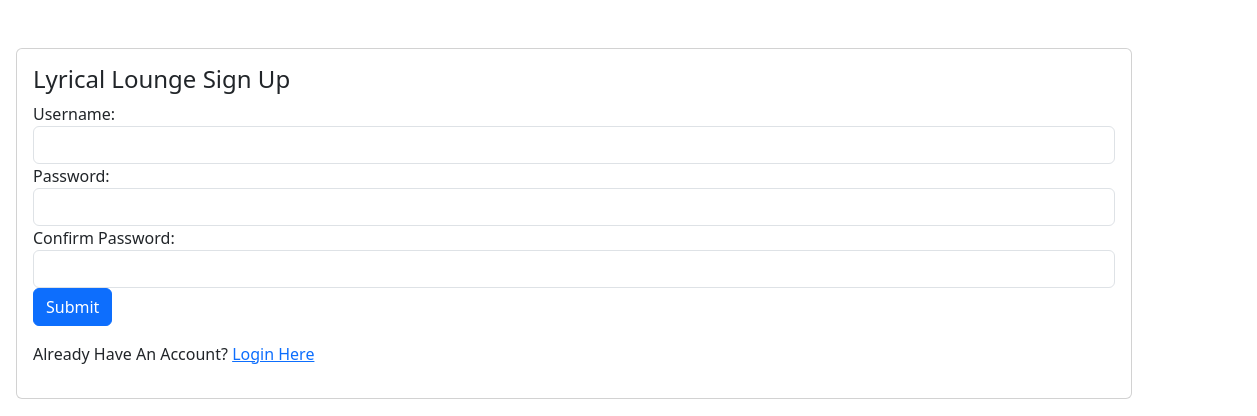
Test: Registration Page Rendering › Displays error message for mismatched passwords
In the field labelled "Username:": (574, 145) [33,126,1115,164], type "testUser"
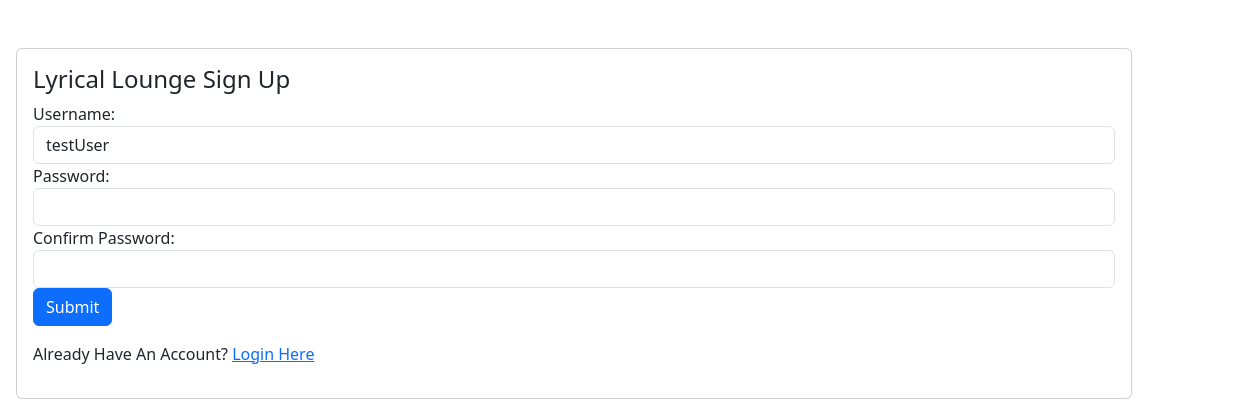
In the password field labelled "Password:": (574, 207) [33,188,1115,226], type "password1"
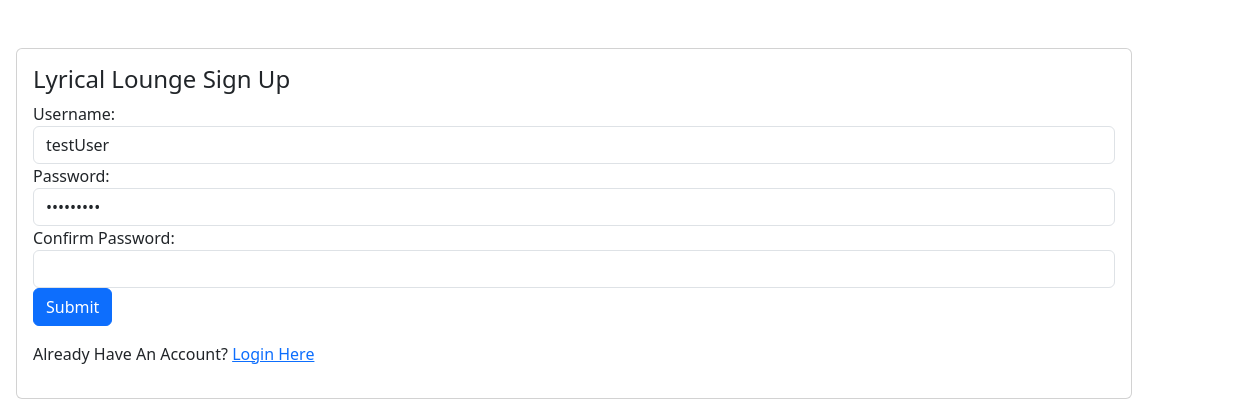
In the password field labelled "Confirm Password:": (574, 269) [33,250,1115,288], type "password12"
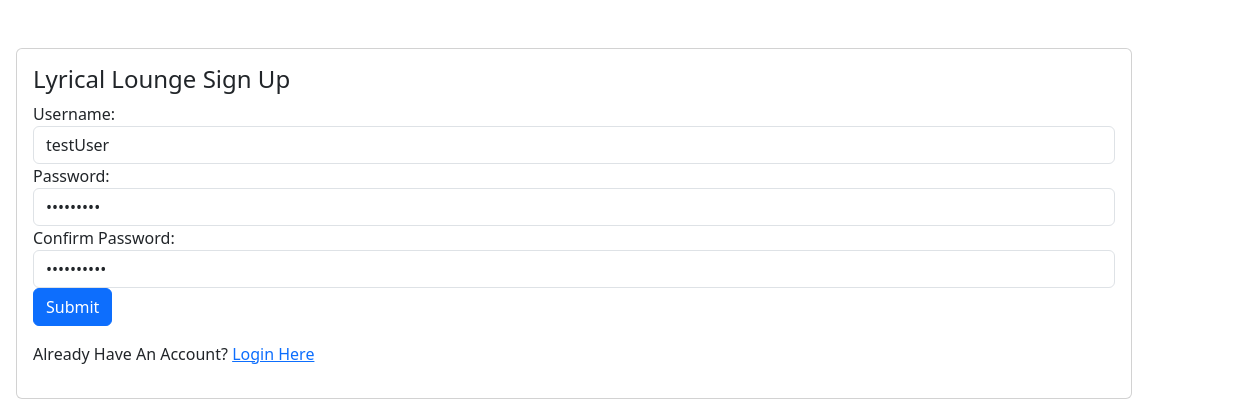
Submit the form from the button "Submit", box [33,288,112,326]
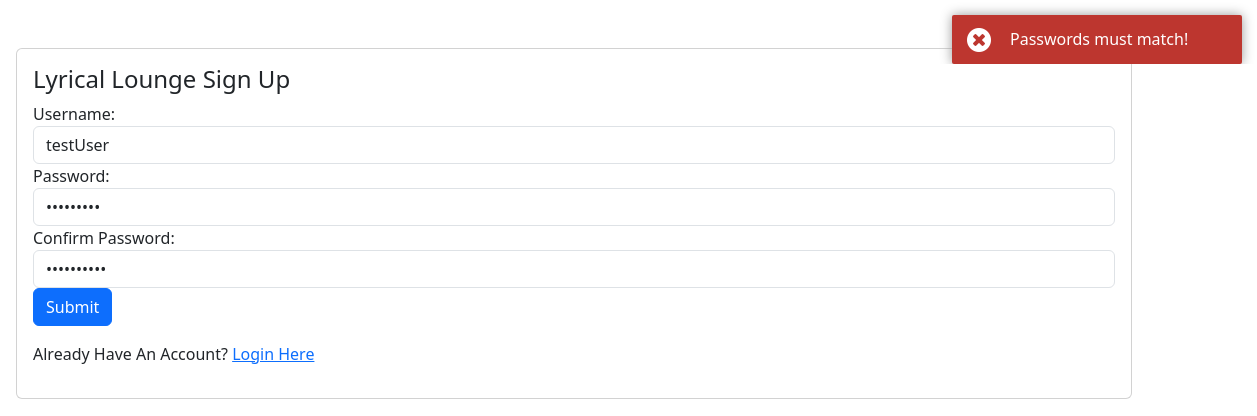
Expected: the text "Passwords must match!" is shown, [1010,28,1188,50]
